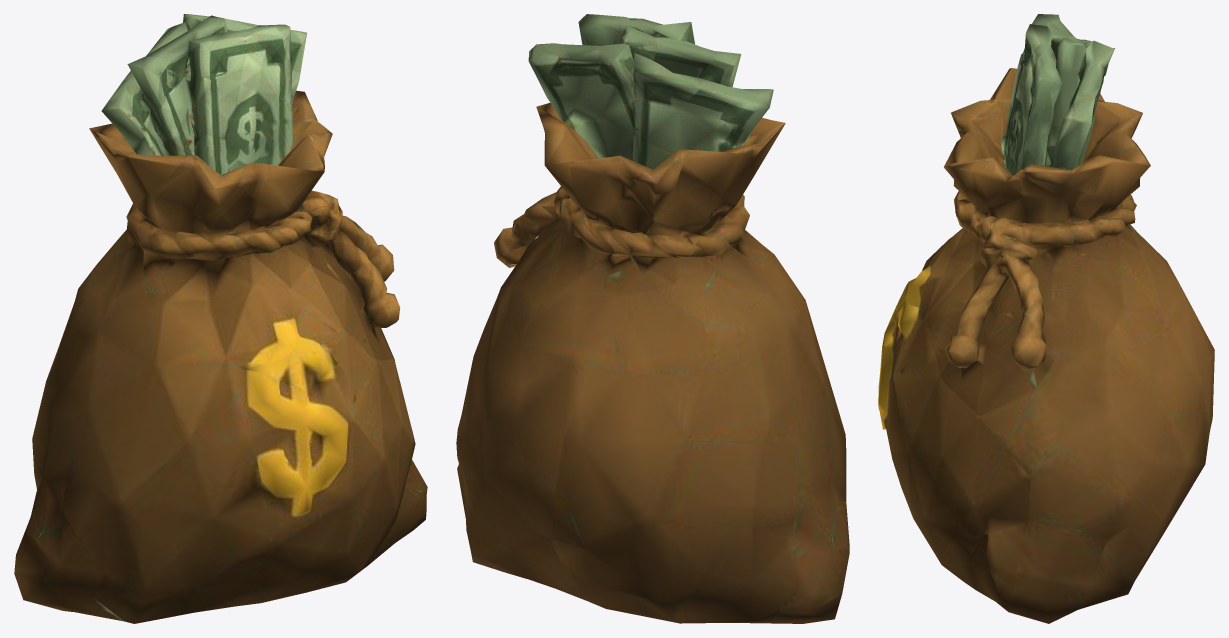
Rendered from doji.glb.
3 renders of one model, left to right at view 1: azimuth 30°, elevation 25°; view 2: azimuth 150°, elevation 25°; view 3: azimuth 270°, elevation 25°, orthographic. The views are drawn at different scales.
Visible parts, largest first — view 1: mesh_node; view 2: mesh_node; view 3: mesh_node.
Boxes of the visible parts, bbox=[...] form: mesh_node: bbox=[14, 14, 427, 623]; mesh_node: bbox=[456, 14, 849, 623]; mesh_node: bbox=[878, 14, 1214, 623].
Bounding box in the file's own units: 1.4 × 1.9 × 1.12.
1 material, 1 textured.
